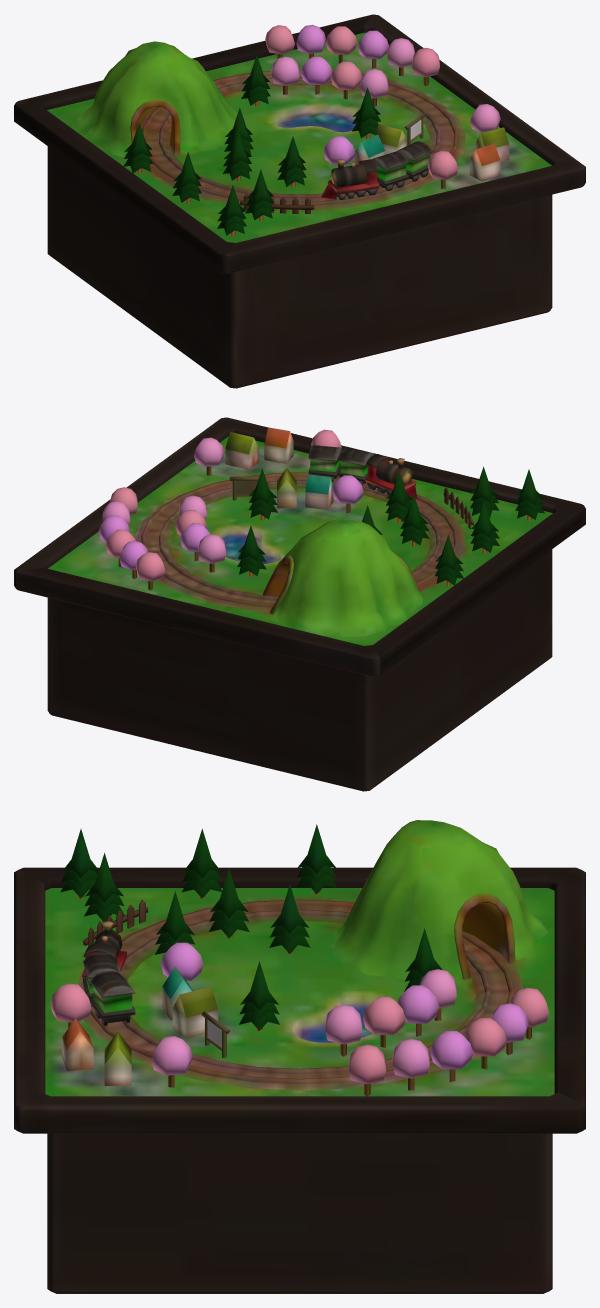
3 renders of one model, top to bottom at view 1: azimuth 30°, elevation 25°; view 2: azimuth 150°, elevation 25°; view 3: azimuth 270°, elevation 25°, orthographic. The views are drawn at different scales.
Size of the model in its own units: 16.98 by 9.9 by 16.98.
2 materials, 2 textured.
